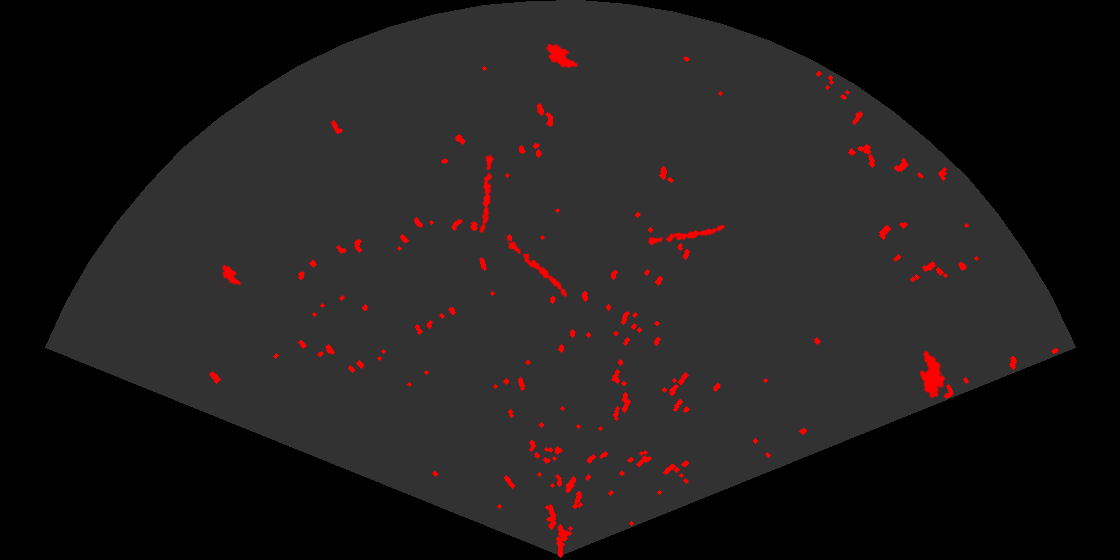AUV: (918, 349, 947, 400), (544, 42, 580, 70), (214, 263, 243, 289)
chain: (502, 234, 569, 299), (645, 223, 727, 247), (478, 154, 496, 235)
